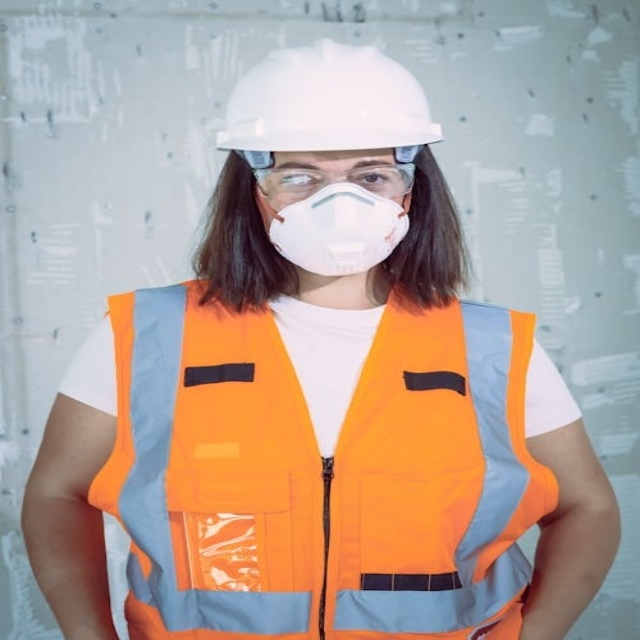Gafas: (253, 161, 419, 202)
Mascara: (265, 180, 410, 276)
